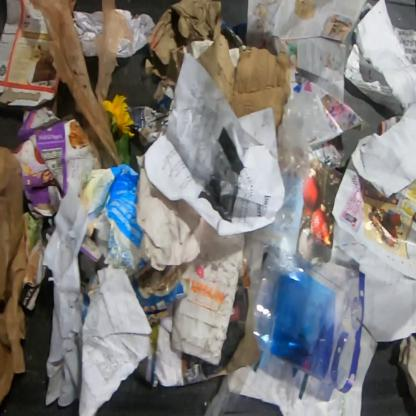cardboard: (144, 0, 294, 132), (13, 104, 102, 220), (170, 233, 244, 366), (79, 163, 154, 280), (0, 146, 30, 404), (0, 0, 59, 110), (80, 235, 107, 262)
soft_plastic: (252, 235, 366, 394), (28, 0, 135, 165), (244, 91, 333, 269)
